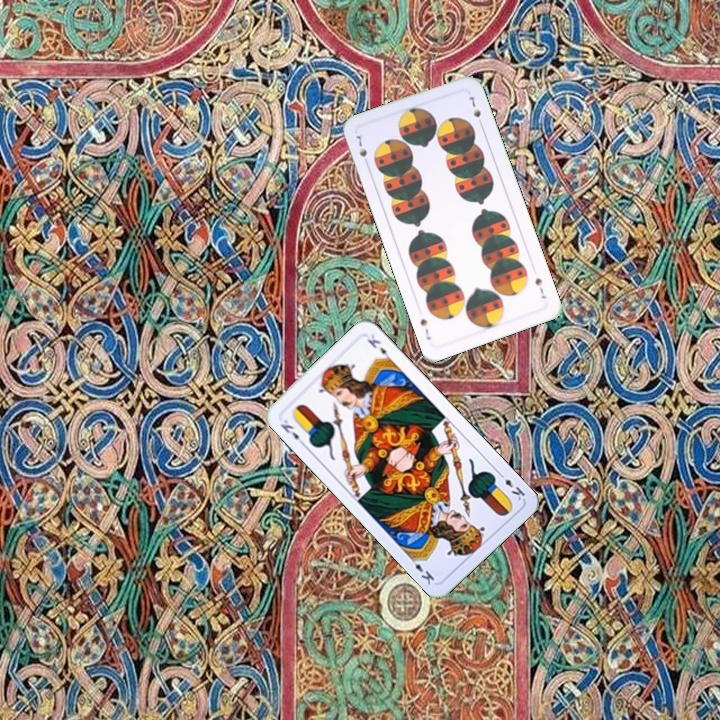EK: (494, 468, 528, 503), (276, 415, 307, 448)
S7: (352, 129, 371, 169), (531, 274, 549, 301)
